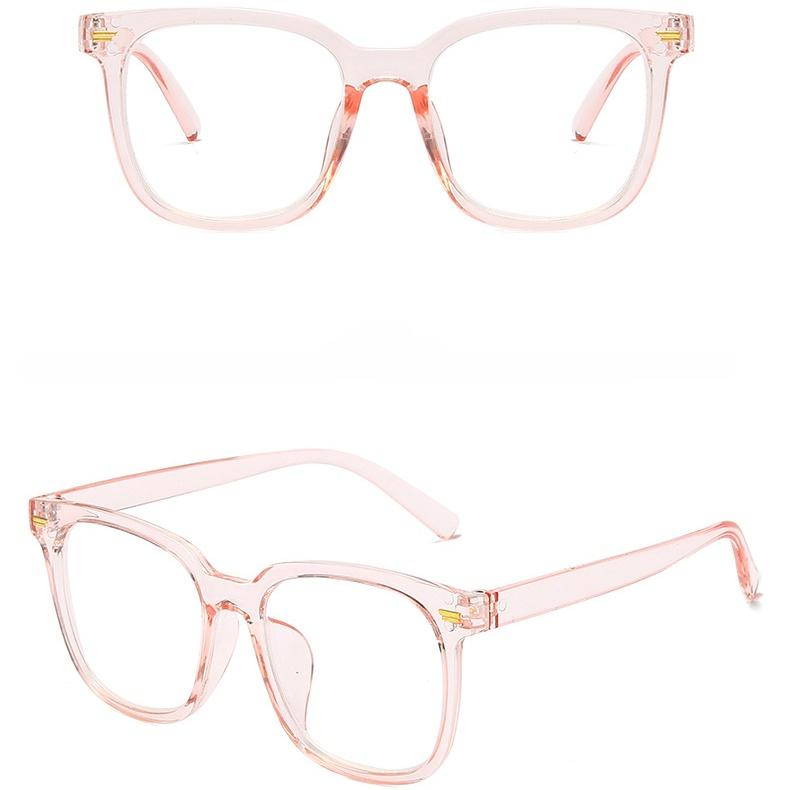spectacles: (21, 475, 753, 790), (35, 4, 706, 236)
